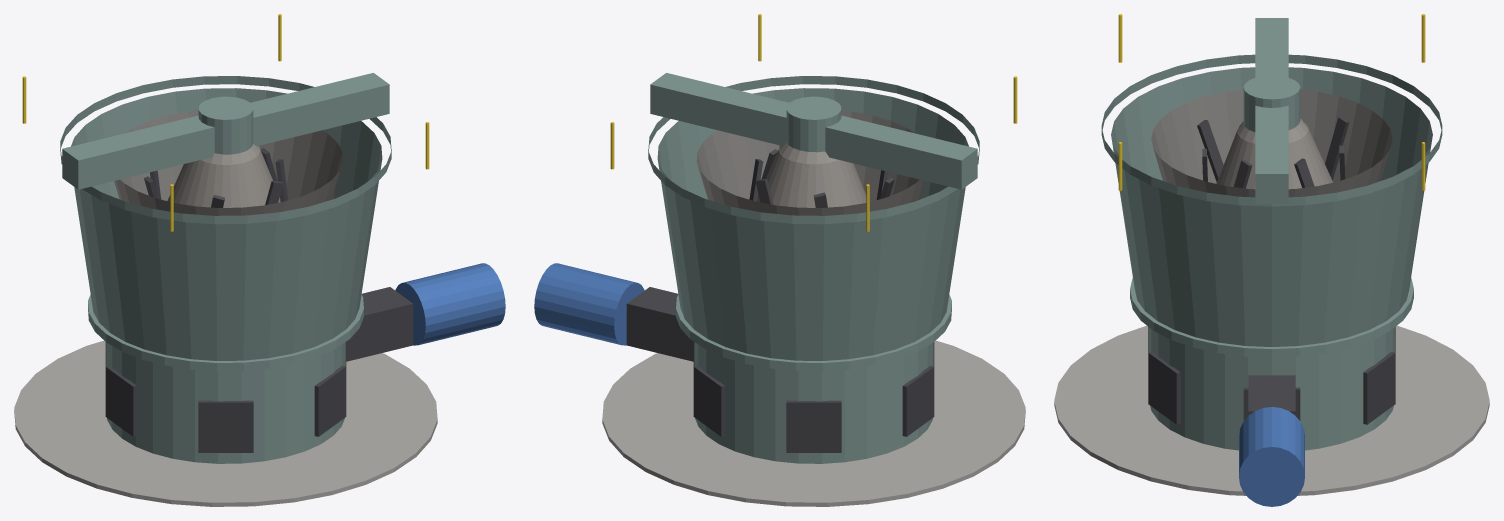
The model's file is EQ_GyratoryCrusher.glb.
3 renders of one model, left to right at view 1: azimuth 30°, elevation 25°; view 2: azimuth 150°, elevation 25°; view 3: azimuth 270°, elevation 25°, orthographic. The views are drawn at different scales.
Parts seen in each view (by area): view 1: GC_Shells, GC_Mantle; view 2: GC_Shells, GC_Mantle; view 3: GC_Shells, GC_Mantle.
Boxes of the visible parts, box(x1,y1,x2,y2) form: GC_Shells: box(14, 14, 505, 506); GC_Mantle: box(144, 144, 288, 207); GC_Shells: box(534, 14, 1025, 506); GC_Mantle: box(749, 142, 894, 207); GC_Shells: box(1054, 14, 1489, 506); GC_Mantle: box(1197, 116, 1349, 189).
Size of the model in its own units: 11.2 by 7.6 by 9.2.
